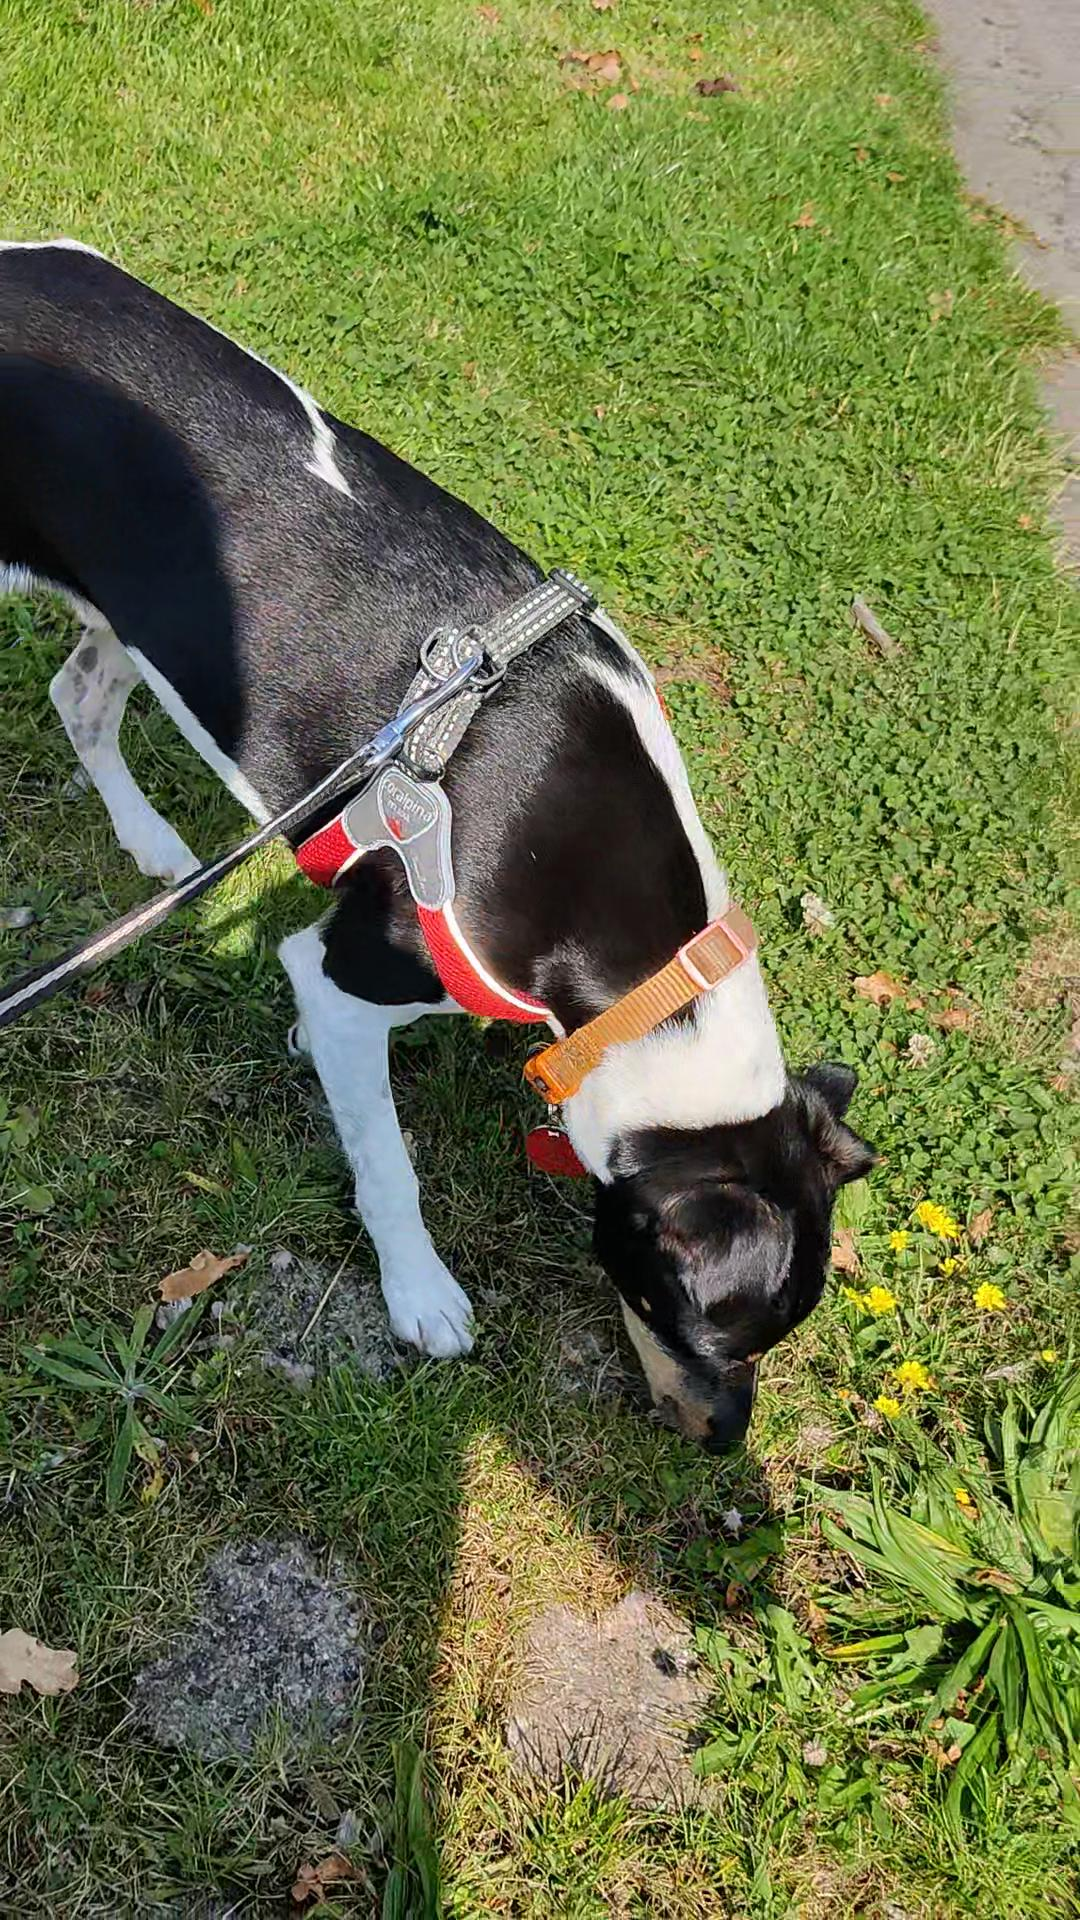Dog: (0, 231, 881, 1457)
